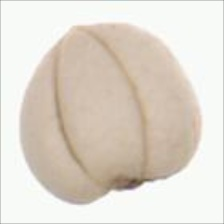L5: (47, 23, 150, 186)
L6: (14, 19, 203, 208), (94, 171, 165, 196)
